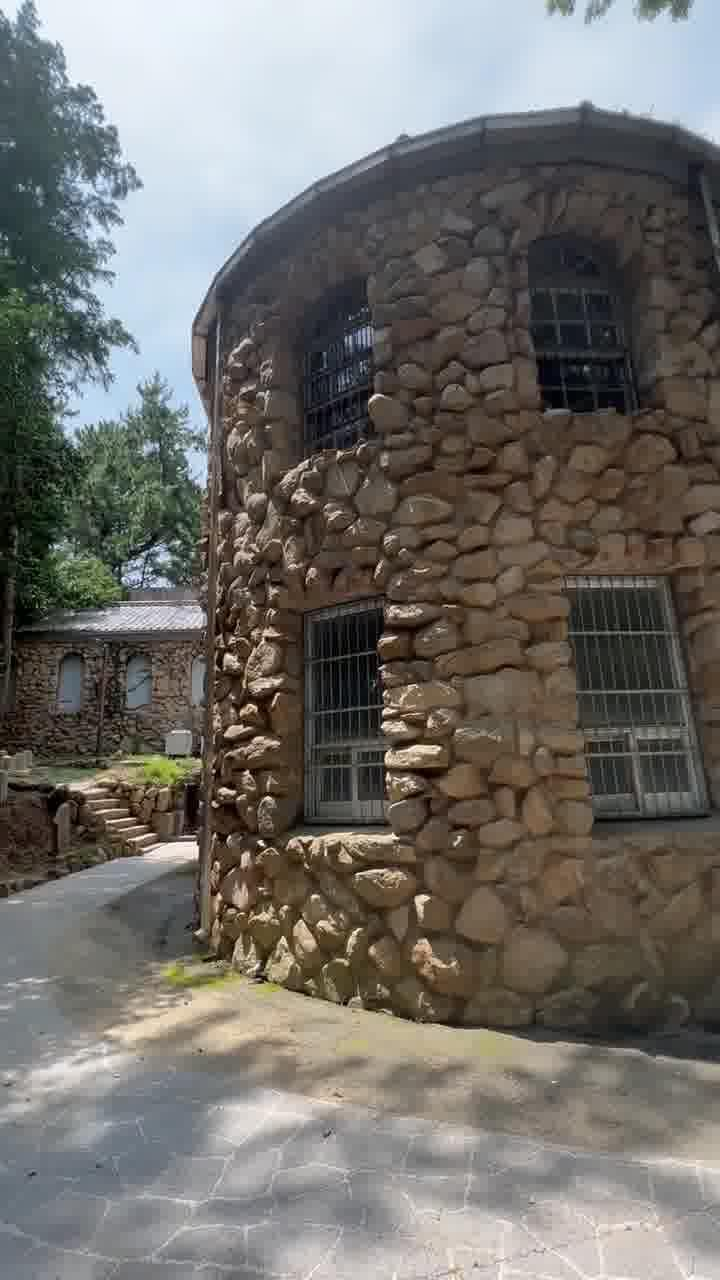building: (146, 90, 720, 1004)
